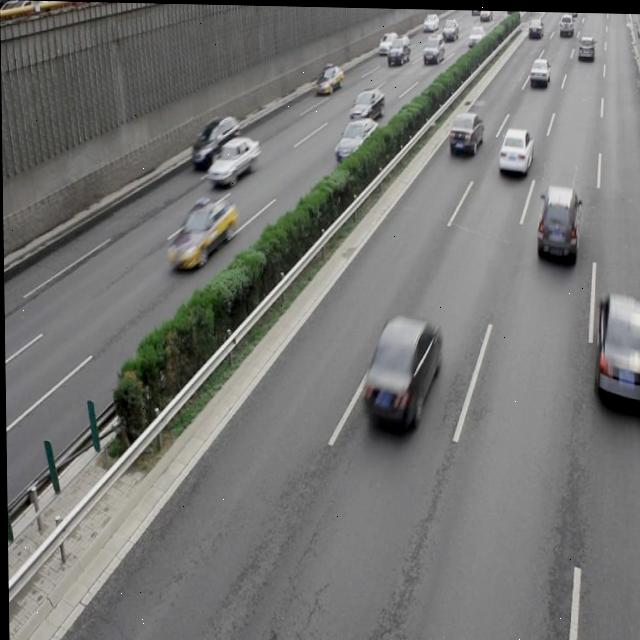car: (362, 309, 441, 430), (591, 287, 640, 404), (167, 196, 236, 269), (534, 183, 579, 262), (191, 113, 240, 170), (207, 132, 260, 182), (333, 114, 380, 164), (497, 124, 531, 173), (447, 110, 484, 154), (348, 86, 383, 121), (314, 60, 343, 95)
